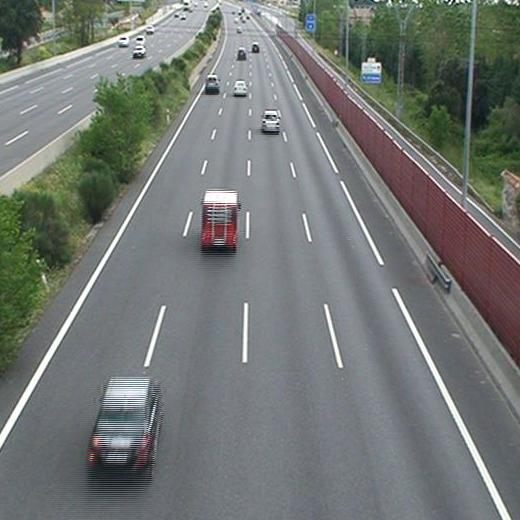car: (92, 378, 159, 465), (261, 112, 279, 132), (205, 76, 220, 91), (233, 80, 247, 95), (236, 48, 246, 59), (251, 43, 259, 52)
van: (203, 191, 237, 245)
